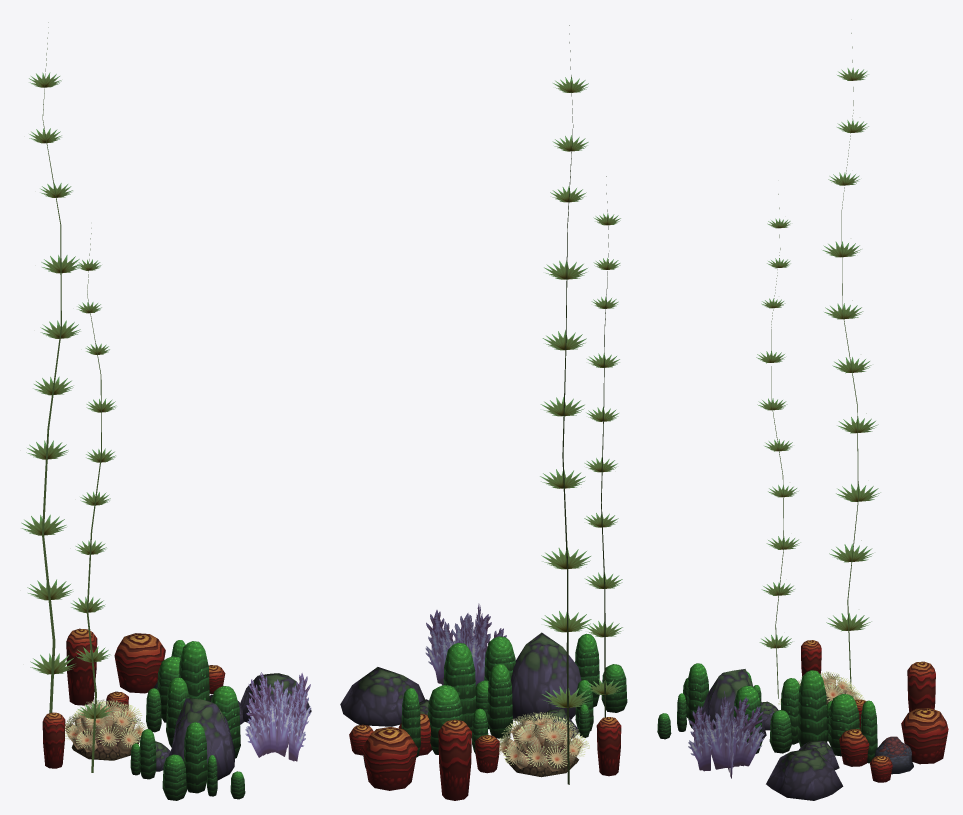
Rendered from CoralSet_05.FBX.
3 renders of one model, left to right at view 1: azimuth 30°, elevation 25°; view 2: azimuth 150°, elevation 25°; view 3: azimuth 270°, elevation 25°, orthographic. The views are drawn at different scales.
Parts seen in each view (by area): view 1: Set_05_Part15, Set_05, Set_05_Part18, Set_05_Part19, Set_05_Part14, Set_05_Part09, Set_05_Part12, Set_05_Part04, Set_05_Part07, Set_05_Part06, Set_05_Part16, Set_05_Part08; view 2: Set_05, Set_05_Part15, Set_05_Part12, Set_05_Part09, Set_05_Part14, Set_05_Part16, Set_05_Part04, Set_05_Part18, Set_05_Part19, Set_05_Part07, Set_05_Part06, Set_05_Part05 (+1 smaller); view 3: Set_05, Set_05_Part15, Set_05_Part18, Set_05_Part16, Set_05_Part14, Set_05_Part04, Set_05_Part19, Set_05_Part12, Set_05_Part07, Set_05_Part10, Set_05_Part02, Set_05_Part09 (+2 smaller).
Part boxes in pixels (left/top/right/bottom): Set_05_Part15: left=21, top=22, right=80, bottom=713; Set_05: left=146, top=640, right=240, bottom=758; Set_05_Part18: left=245, top=672, right=311, bottom=761; Set_05_Part19: left=139, top=722, right=245, bottom=800; Set_05_Part14: left=71, top=228, right=116, bottom=772; Set_05_Part09: left=65, top=698, right=146, bottom=753; Set_05_Part12: left=168, top=698, right=235, bottom=780; Set_05_Part04: left=114, top=633, right=165, bottom=693; Set_05_Part07: left=66, top=628, right=97, bottom=705; Set_05_Part06: left=42, top=712, right=65, bottom=768; Set_05_Part16: left=240, top=673, right=311, bottom=722; Set_05_Part08: left=71, top=731, right=139, bottom=760; Set_05: left=401, top=636, right=515, bottom=757; Set_05_Part15: left=540, top=25, right=591, bottom=784; Set_05_Part12: left=511, top=632, right=581, bottom=722; Set_05_Part09: left=498, top=712, right=589, bottom=771; Set_05_Part14: left=584, top=176, right=622, bottom=717; Set_05_Part16: left=340, top=667, right=424, bottom=726; Set_05_Part04: left=362, top=727, right=417, bottom=790; Set_05_Part18: left=425, top=603, right=506, bottom=686; Set_05_Part19: left=575, top=633, right=627, bottom=731; Set_05_Part07: left=438, top=719, right=471, bottom=800; Set_05_Part06: left=596, top=717, right=621, bottom=776; Set_05_Part05: left=475, top=735, right=499, bottom=773; Set_05: left=733, top=670, right=877, bottom=763; Set_05_Part15: left=822, top=33, right=880, bottom=688; Set_05_Part18: left=688, top=691, right=764, bottom=778; Set_05_Part16: left=766, top=748, right=843, bottom=800; Set_05_Part14: left=756, top=194, right=800, bottom=698; Set_05_Part04: left=901, top=708, right=948, bottom=764; Set_05_Part19: left=657, top=663, right=752, bottom=739; Set_05_Part12: left=701, top=669, right=766, bottom=738; Set_05_Part07: left=907, top=661, right=935, bottom=711; Set_05_Part10: left=839, top=729, right=869, bottom=766; Set_05_Part02: left=874, top=736, right=913, bottom=774; Set_05_Part09: left=778, top=671, right=865, bottom=704.
Size of the model in its own units: 45.4 by 121 by 46.8.
